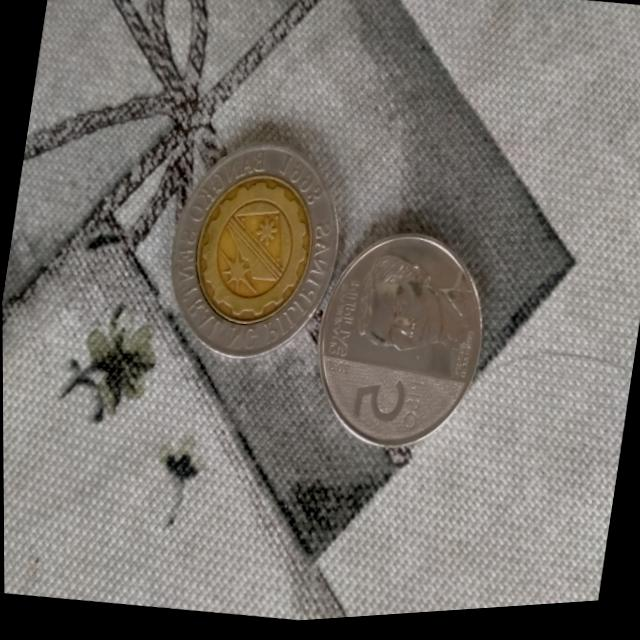10_Old_Back: (155, 129, 352, 369)
5_New_Front: (344, 350, 439, 459)
